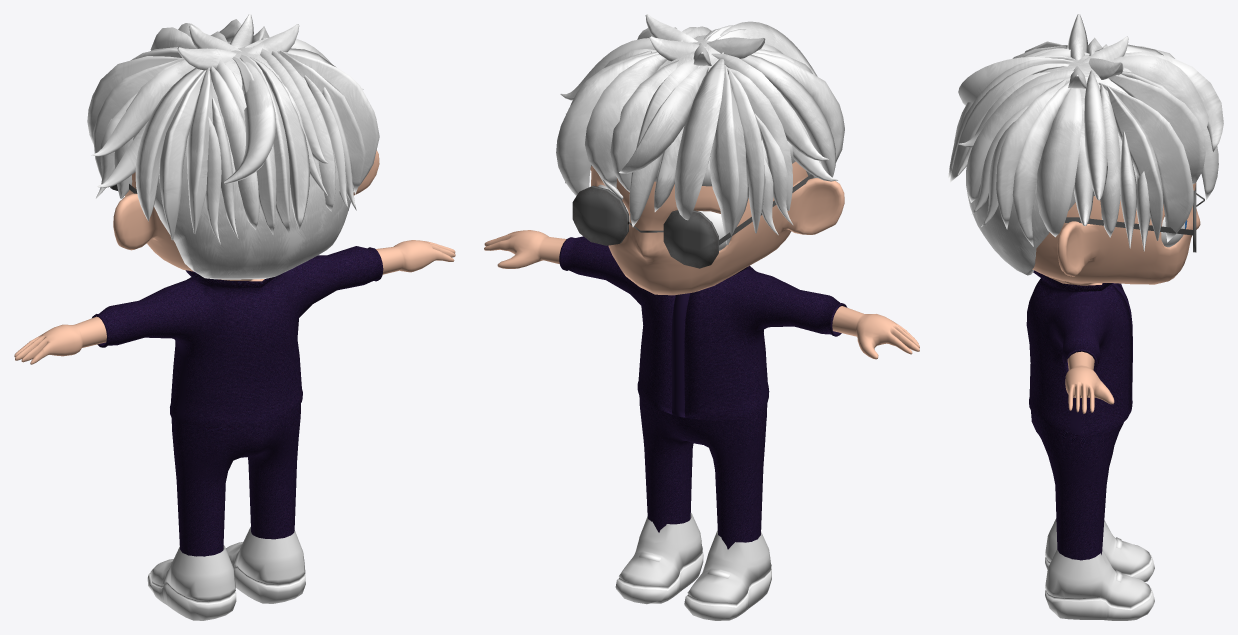
Rendered from Modeltest.fbx.
The picture shows the model from 3 angles, left to right: view 1: azimuth 30°, elevation 25°; view 2: azimuth 150°, elevation 25°; view 3: azimuth 270°, elevation 25°; orthographic projection. The views are drawn at different scales.
Parts seen in each view (by area): view 1: modeltest; view 2: modeltest; view 3: modeltest.
Boxes of the visible parts, <box> form: modeltest: <box>14,14,455,620</box>; modeltest: <box>484,14,919,620</box>; modeltest: <box>948,14,1223,620</box>.
Size of the model in its own units: 114 by 141 by 63.69.
10 materials, 8 textured.
